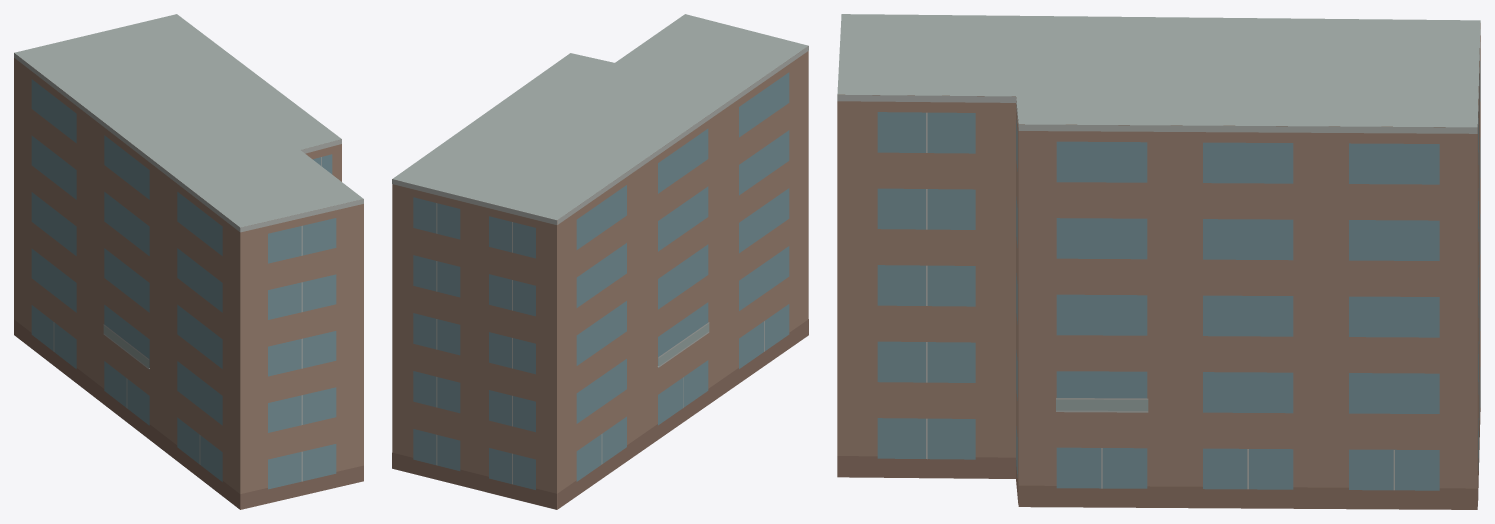
File: survey-upis-32573660.glb
The picture shows the model from 3 angles, left to right: view 1: azimuth 30°, elevation 25°; view 2: azimuth 150°, elevation 25°; view 3: azimuth 270°, elevation 25°; orthographic projection. The views are drawn at different scales.
Parts seen in each view (by area): view 1: survey-upis-32573660.tmp; view 2: survey-upis-32573660.tmp; view 3: survey-upis-32573660.tmp.
Part boxes in pixels (x1,y1,x2,y2): survey-upis-32573660.tmp: (14, 14, 363, 509); survey-upis-32573660.tmp: (392, 14, 808, 509); survey-upis-32573660.tmp: (837, 14, 1480, 509).
Size of the model in its own units: 9.06 by 14.25 by 21.72.
